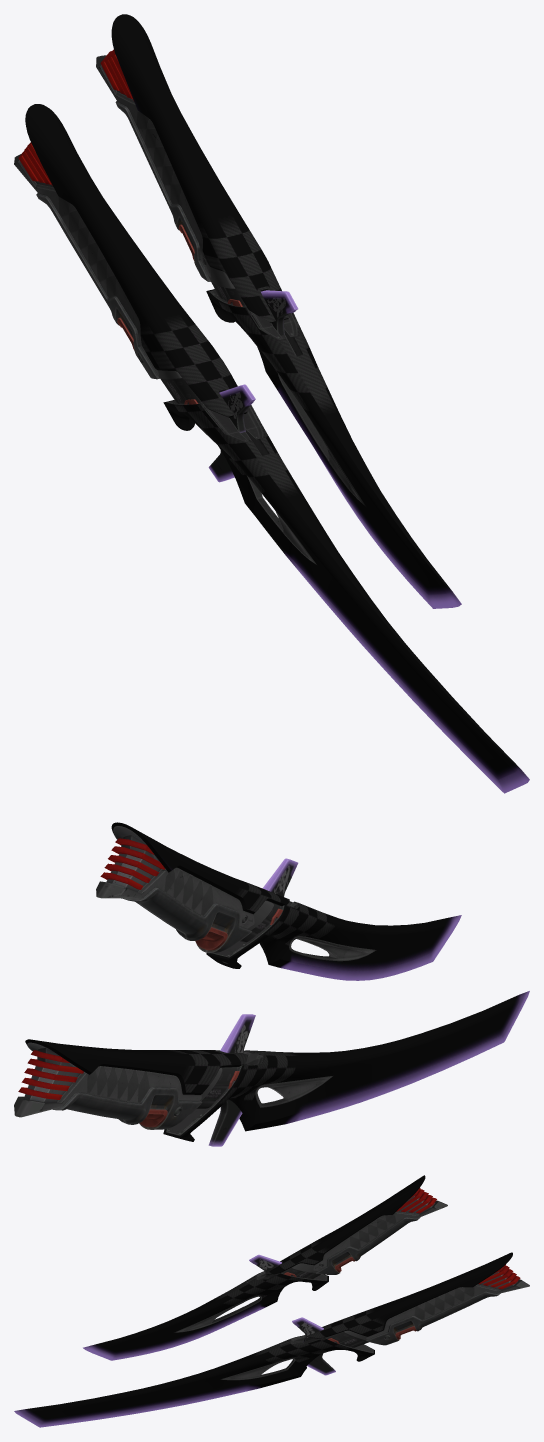
3 views of the same model, one above another, from view 1: azimuth 30°, elevation 25°; view 2: azimuth 150°, elevation 25°; view 3: azimuth 270°, elevation 25° (orthographic). The views are drawn at different scales.
Visible parts, largest first — view 1: long_0_heirloom_agnostic_v25_veloform_heirloom_agnostic_v25_, short_0_heirloom_agnostic_v25_veloform_heirloom_agnostic_v25; view 2: long_0_heirloom_agnostic_v25_veloform_heirloom_agnostic_v25_, short_0_heirloom_agnostic_v25_veloform_heirloom_agnostic_v25; view 3: long_0_heirloom_agnostic_v25_veloform_heirloom_agnostic_v25_, short_0_heirloom_agnostic_v25_veloform_heirloom_agnostic_v25.
Part boxes in pixels (x1,y1,x2,y2): long_0_heirloom_agnostic_v25_veloform_heirloom_agnostic_v25_: [14, 104, 529, 793]; short_0_heirloom_agnostic_v25_veloform_heirloom_agnostic_v25: [96, 14, 461, 608]; long_0_heirloom_agnostic_v25_veloform_heirloom_agnostic_v25_: [14, 991, 529, 1146]; short_0_heirloom_agnostic_v25_veloform_heirloom_agnostic_v25: [96, 822, 461, 980]; long_0_heirloom_agnostic_v25_veloform_heirloom_agnostic_v25_: [14, 1252, 529, 1427]; short_0_heirloom_agnostic_v25_veloform_heirloom_agnostic_v25: [83, 1175, 447, 1360].
Size of the model in its own units: 1.33 by 12.45 by 23.14.
Materials: 1 (1 with a texture image).
